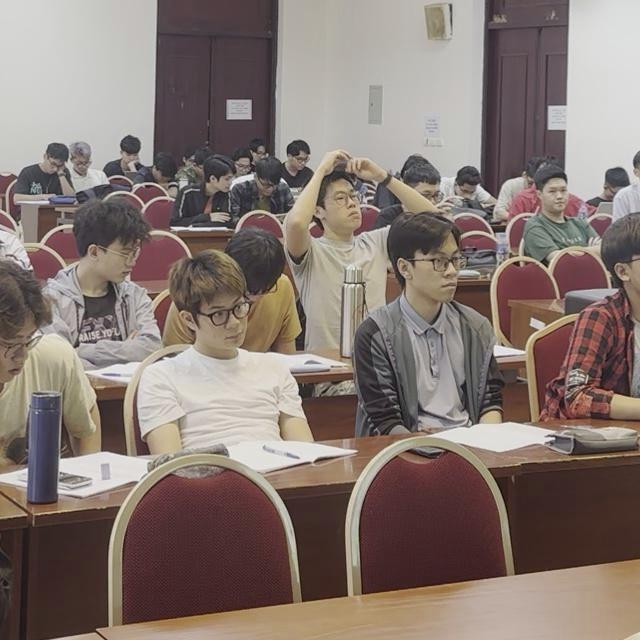Looking away: (0, 327, 41, 383), (105, 242, 140, 283), (257, 181, 277, 196), (218, 173, 232, 194), (75, 157, 90, 175), (458, 186, 477, 199), (293, 153, 307, 170), (47, 160, 62, 175)
Looking forward: (415, 252, 461, 297), (206, 295, 245, 348), (330, 187, 363, 230), (548, 181, 566, 210)
